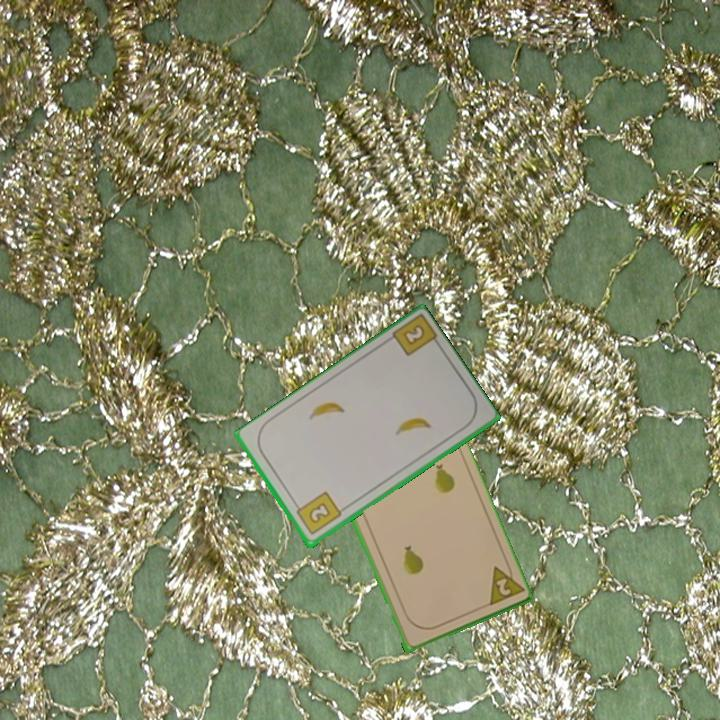2b: (291, 488, 344, 538), (399, 321, 428, 349)
2p: (482, 558, 525, 609)
